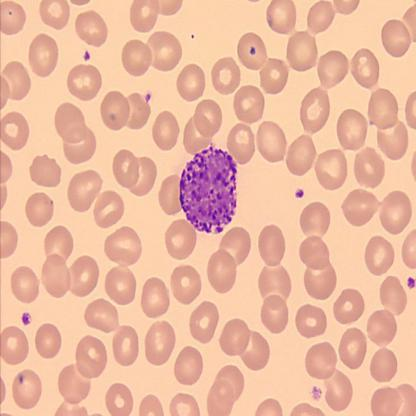Basophil: (177, 142, 241, 240)
